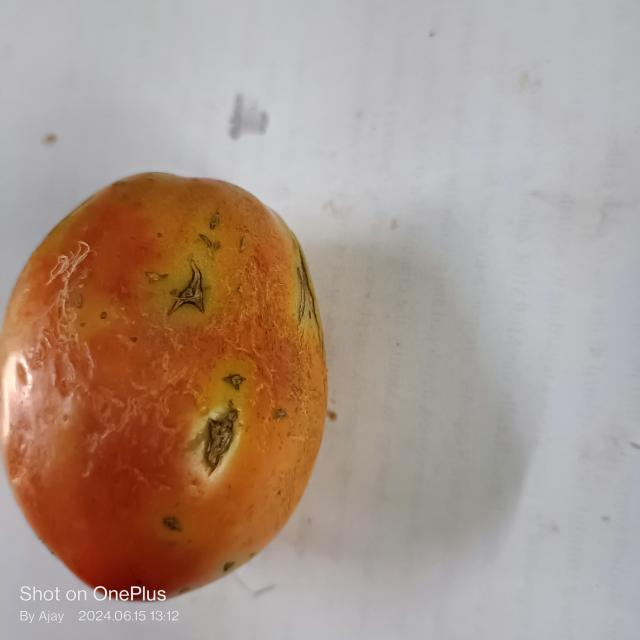Bacterial_Spot: (201, 370, 250, 470), (167, 266, 211, 324), (196, 198, 225, 254), (159, 515, 181, 536)
